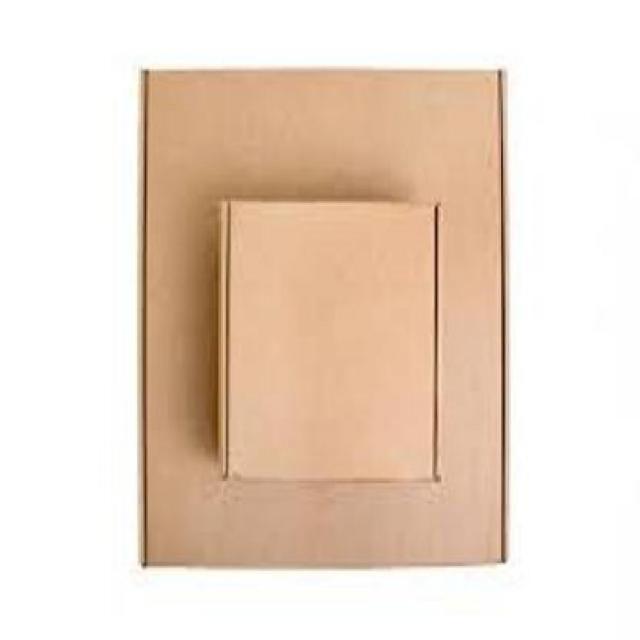normal: (211, 194, 451, 495)
